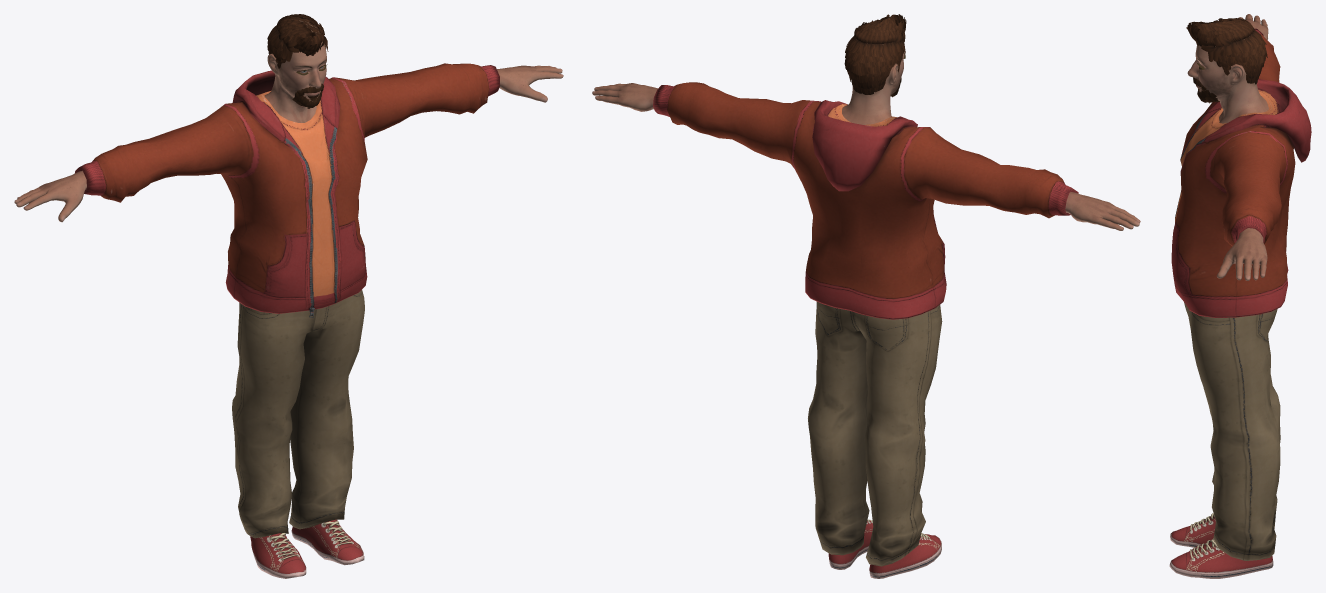
Rendered from perso1.obj.
The picture shows the model from 3 angles, left to right: view 1: azimuth 30°, elevation 25°; view 2: azimuth 150°, elevation 25°; view 3: azimuth 270°, elevation 25°; orthographic projection.
Visible parts, largest first — view 1: Tops, Bottoms, Body, Shoes, Hair; view 2: Tops, Bottoms, Body, Hair, Shoes; view 3: Tops, Bottoms, Body, Hair, Shoes, Beards.
Part boxes in pixels (box(x1,y1,x2,y2)): Tops: box(75, 63, 499, 317); Bottoms: box(232, 290, 364, 538); Body: box(14, 19, 563, 222); Shoes: box(250, 519, 364, 578); Hair: box(267, 14, 328, 68); Tops: box(653, 82, 1078, 319); Bottoms: box(808, 302, 942, 566); Body: box(592, 39, 1140, 230); Hair: box(844, 14, 906, 94); Shoes: box(828, 519, 941, 578); Tops: box(1171, 28, 1311, 317); Bottoms: box(1184, 302, 1280, 560); Body: box(1187, 14, 1268, 280); Hair: box(1186, 18, 1267, 84); Shoes: box(1169, 513, 1273, 578); Beards: box(1197, 88, 1219, 103).
Size of the model in its own units: 194 by 182 by 43.61.
7 materials, 7 textured.
